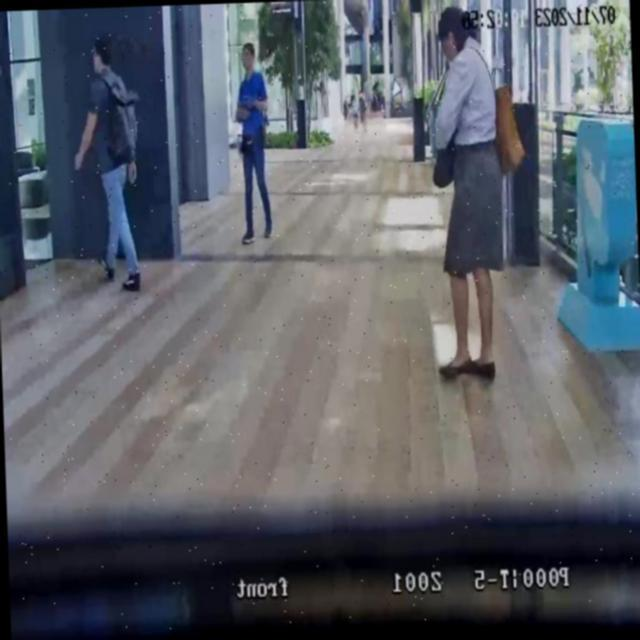person: (425, 4, 510, 384), (68, 36, 142, 294), (232, 41, 274, 244), (350, 90, 360, 131), (358, 90, 367, 134), (342, 94, 349, 124)
